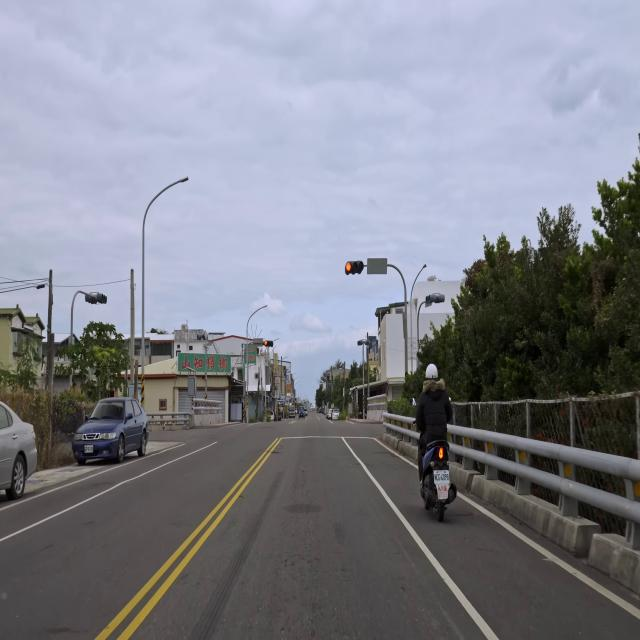red light: (344, 261, 364, 274), (264, 340, 274, 347)
